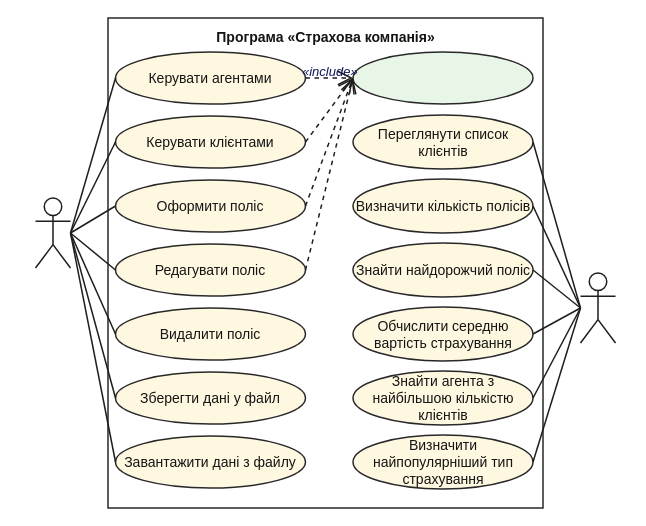
Image size: 646x526. Some labels were removed from this diagram. The shapes that lost their labels are listed below. From the top down, each one's centre as x and y in pixels, then its label:
At (x=442, y=77): "Перевірити коректність даних".
At (x=52, y=232): "Менеджер".
At (x=597, y=307): "Керівник".
